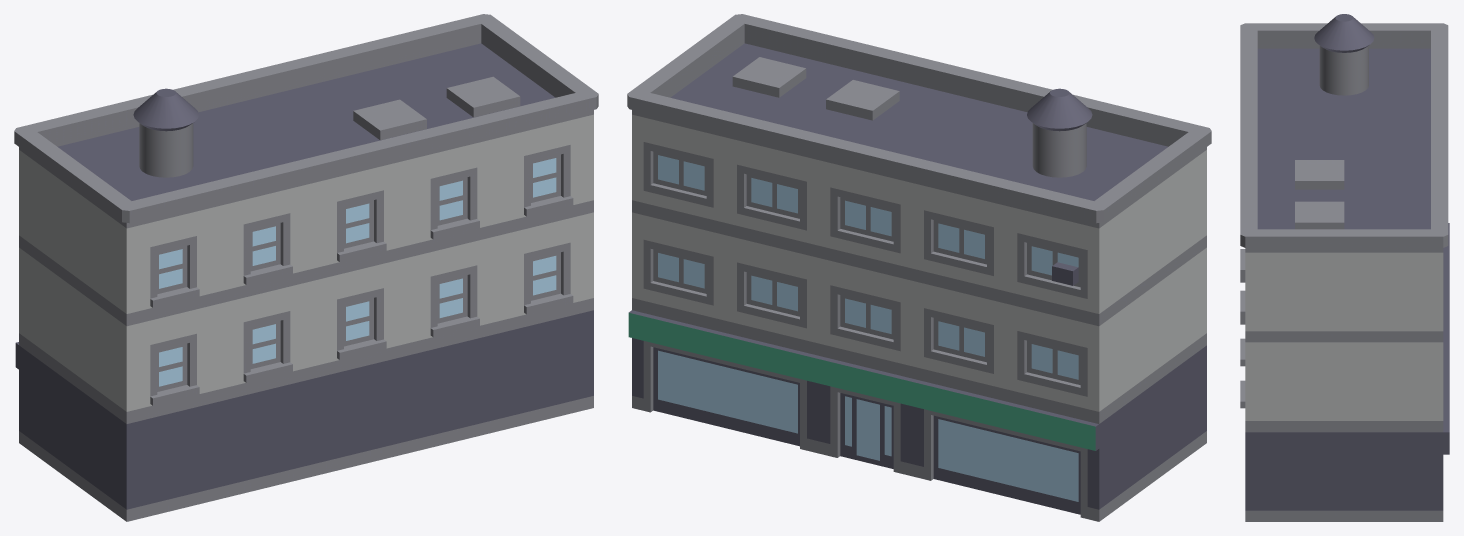
Rendered from large-building-transformed.glb.
3 renders of one model, left to right at view 1: azimuth 30°, elevation 25°; view 2: azimuth 150°, elevation 25°; view 3: azimuth 270°, elevation 25°, orthographic. The views are drawn at different scales.
Visible parts, largest first — view 1: large_buildingF; view 2: large_buildingF; view 3: large_buildingF.
Boxes of the visible parts, <box> form: large_buildingF: <box>14,14,598,521</box>; large_buildingF: <box>627,14,1211,521</box>; large_buildingF: <box>1240,14,1449,521</box>.
Bounding box in the file's own units: 2.04 × 1.5 × 0.845.
Materials: 1 (1 with a texture image).
